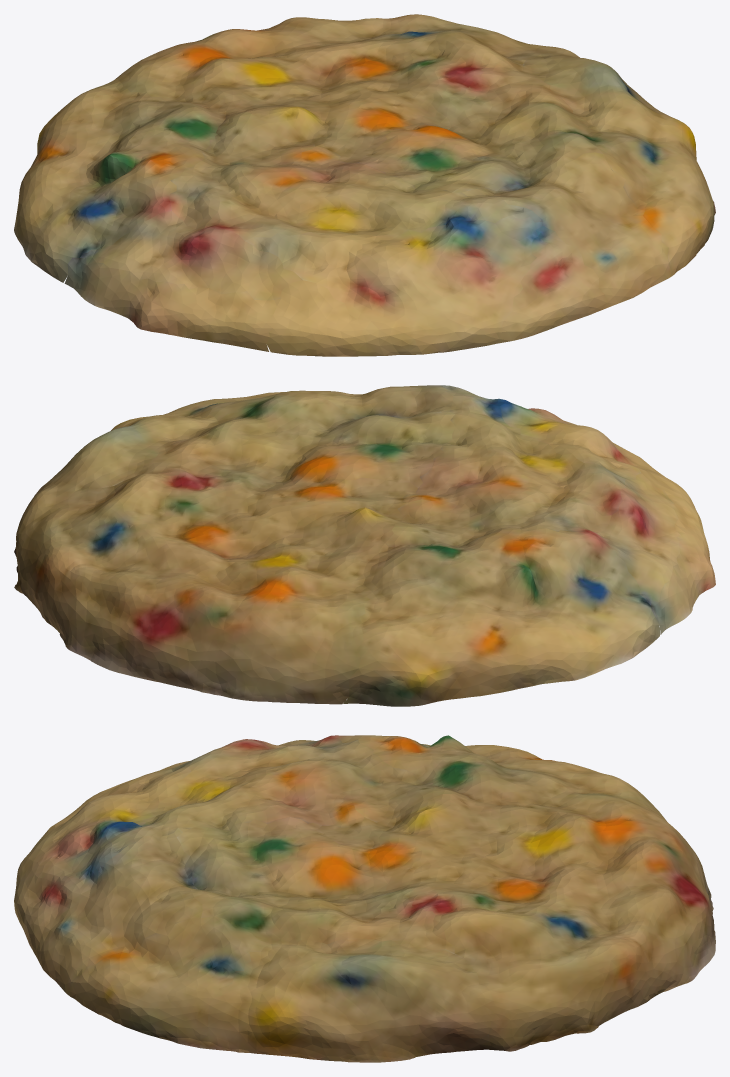
File: drop-style-sugar-cookies.gltf
The picture shows the model from 3 angles, top to bottom: view 1: azimuth 30°, elevation 25°; view 2: azimuth 150°, elevation 25°; view 3: azimuth 270°, elevation 25°; orthographic projection. The views are drawn at different scales.
Size of the model in its own units: 0.3222 by 0.0443 by 0.3213.
1 material, 1 textured.
